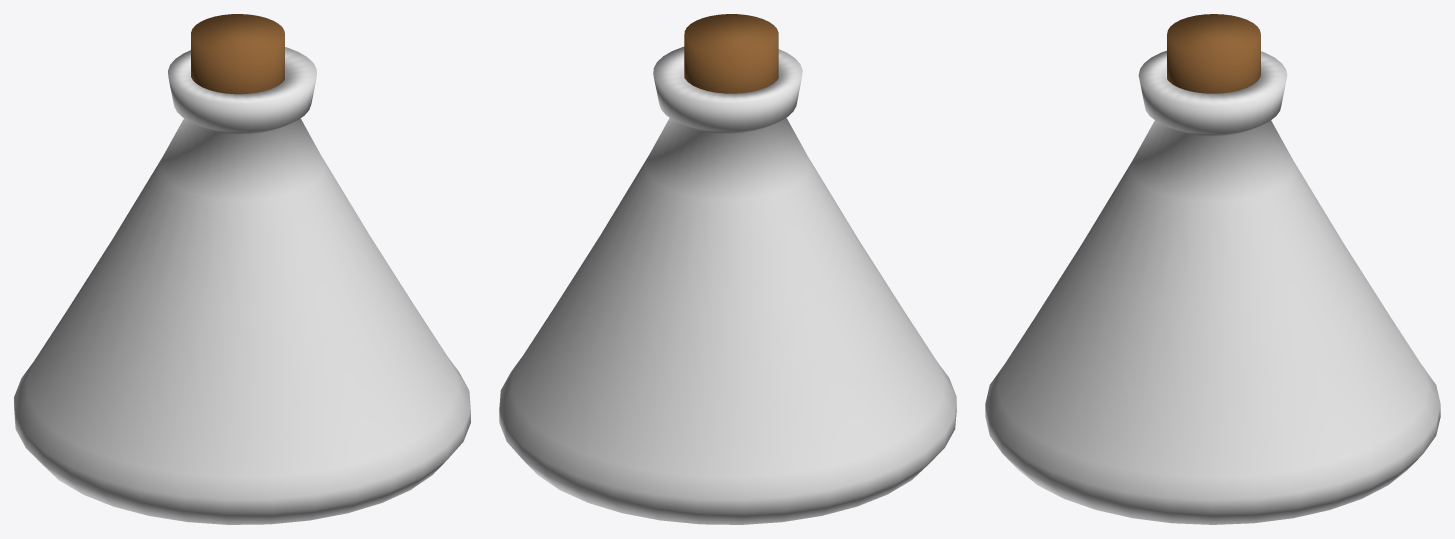
File: Sadeem.fbx
3 renders of one model, left to right at view 1: azimuth 30°, elevation 25°; view 2: azimuth 150°, elevation 25°; view 3: azimuth 270°, elevation 25°, orthographic.
Parts seen in each view (by area): view 1: Circle, Cylinder; view 2: Circle, Cylinder; view 3: Circle, Cylinder.
Boxes of the visible parts, box(x1,y1,x2,y2) form: Circle: box(14, 47, 470, 524); Cylinder: box(191, 14, 284, 94); Circle: box(499, 46, 956, 524); Cylinder: box(684, 14, 778, 93); Circle: box(985, 50, 1440, 524); Cylinder: box(1167, 14, 1260, 93).
Size of the model in its own units: 301 by 300 by 301.
